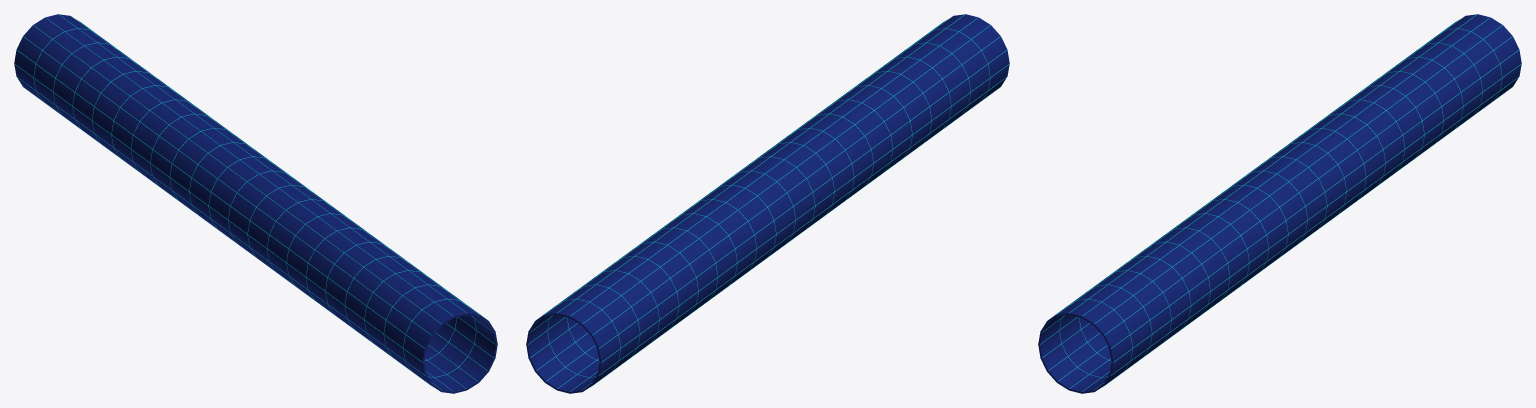
The model's file is TunelFinal_Mapa01.FBX.
The picture shows the model from 3 angles, left to right: view 1: azimuth 30°, elevation 25°; view 2: azimuth 150°, elevation 25°; view 3: azimuth 330°, elevation 25°; orthographic projection.
Parts seen in each view (by area): view 1: Cylinder001, Shape011; view 2: Cylinder001, Shape011; view 3: Cylinder001, Shape011.
Boxes of the visible parts, box(x1,y1,x2,y2) form: Cylinder001: box(14, 14, 497, 393); Shape011: box(14, 14, 497, 393); Cylinder001: box(526, 14, 1009, 393); Shape011: box(526, 14, 1009, 393); Cylinder001: box(1038, 14, 1521, 393); Shape011: box(1038, 14, 1521, 393).
Size of the model in its own units: 743 by 731 by 6957.
